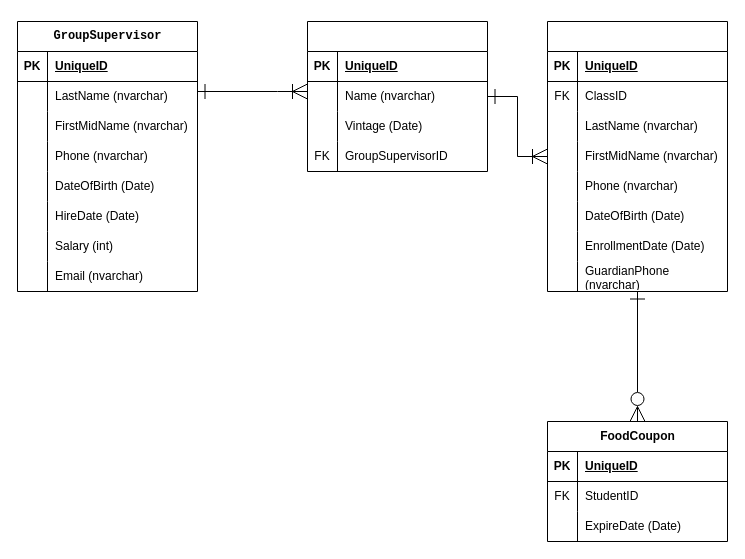
The diagram is 745 pixels wide and 559 high, and some of its shapes have lost their labels. Each missing label, with the box of its shape:
Class: (306, 20, 488, 172)
Student: (546, 20, 728, 292)
